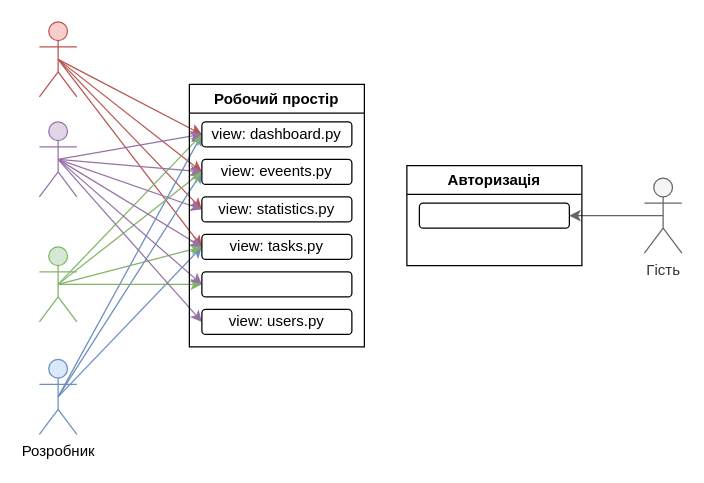
This 704x483 diagram has some shape labels left out. Here are the shapes that lost their labels. From the top down, the centre of each, then its label:
(57,59): Клієнт
(57,159): Голова розробки
(493,215): view: auth.py
(57,284): Менеджер
(276,284): view: teams.py
